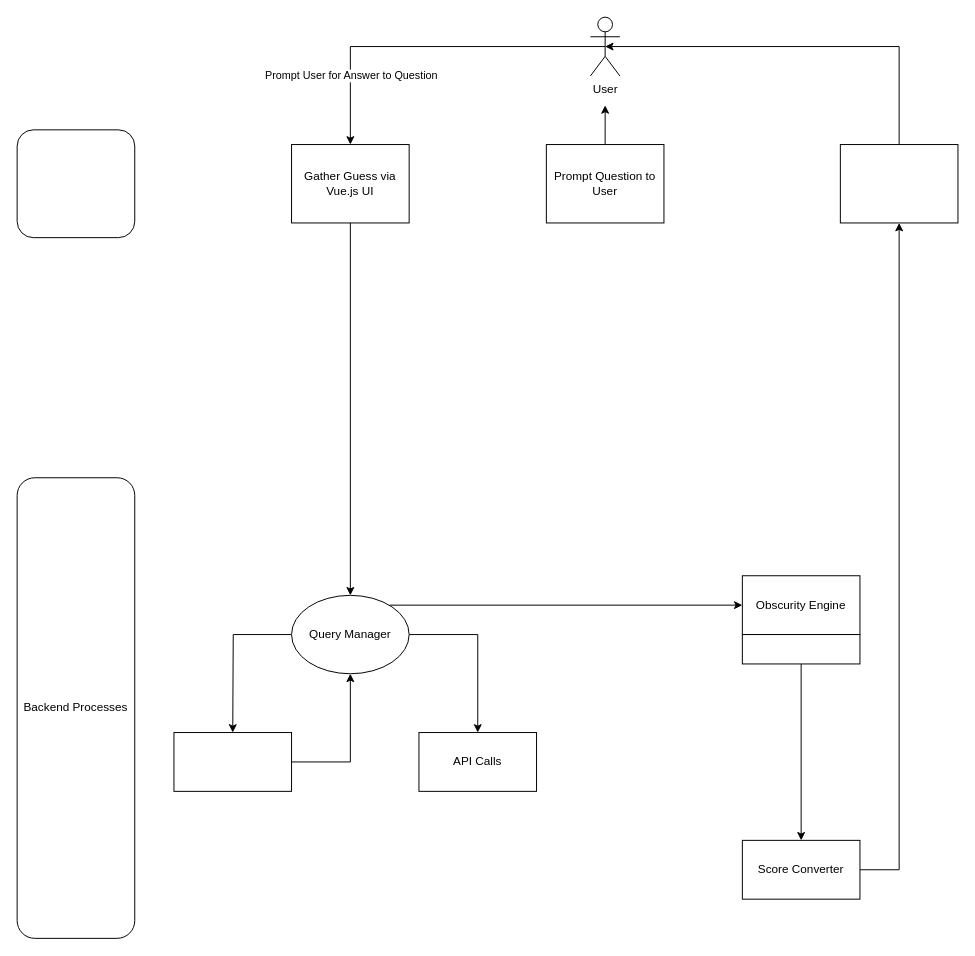
The diagram is 975 pixels wide and 956 high, and some of its shapes have lost their labels. The shapes that lost their labels are listed below. From the top down, each one's centre as x and y in pixels, then its label:
At (75,183): "Frontend".
At (898,183): "Display Score for Guess".
At (800,649): "WIP Algorithm".
At (232,761): "Guess Validator".
